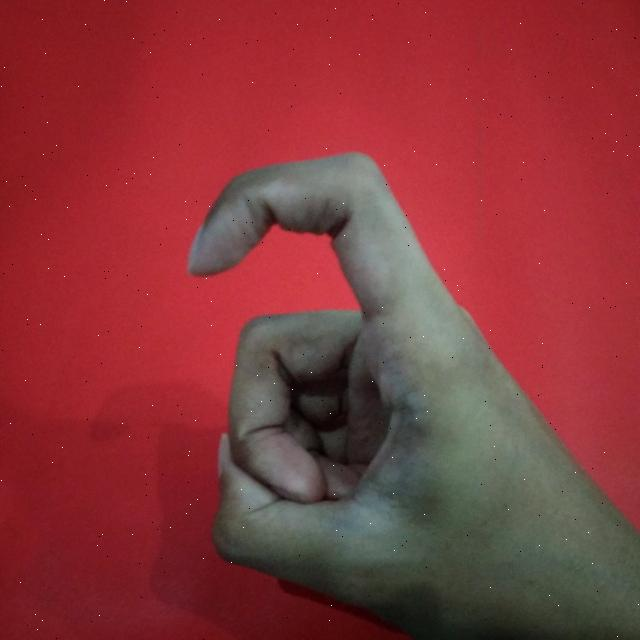X: (178, 145, 640, 640)
